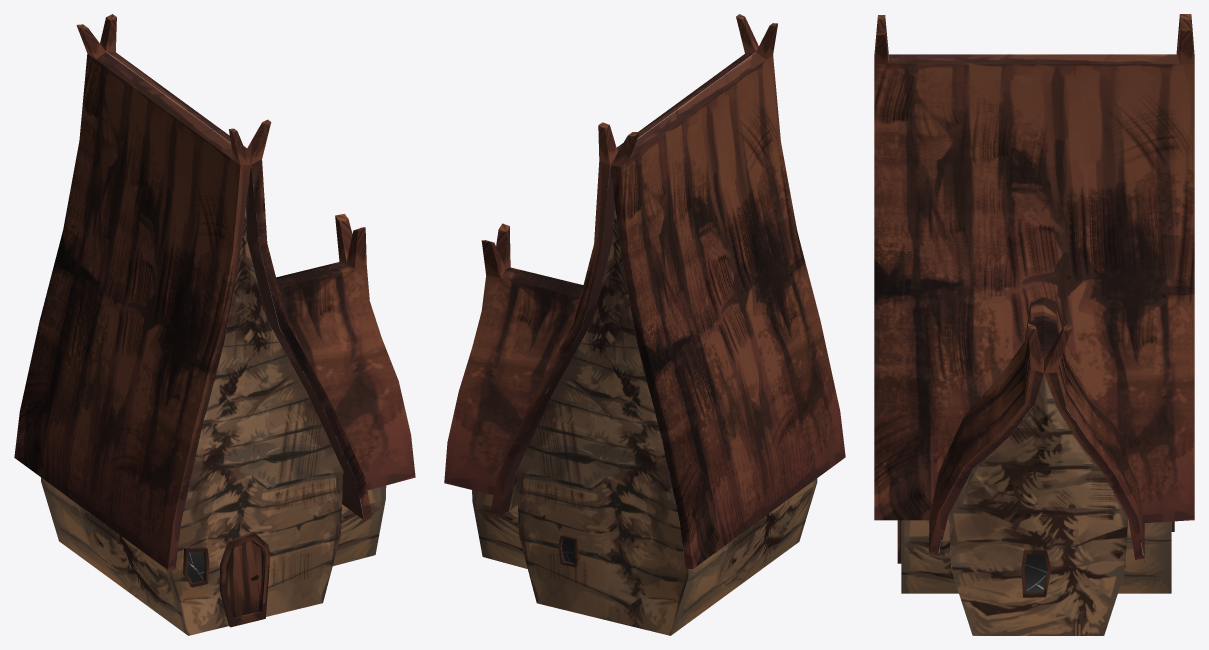
File: House02.fbx
3 views of the same model, side by side, from view 1: azimuth 30°, elevation 25°; view 2: azimuth 150°, elevation 25°; view 3: azimuth 270°, elevation 25° (orthographic). The views are drawn at different scales.
Visible parts, largest first — view 1: House_02; view 2: House_02; view 3: House_02.
Part boxes in pixels (x1,y1,x2,y2): House_02: [14, 14, 415, 635]; House_02: [444, 14, 845, 635]; House_02: [874, 14, 1194, 635].
Bounding box in the file's own units: 7.74 × 13.62 × 7.49.
1 material, 1 textured.
